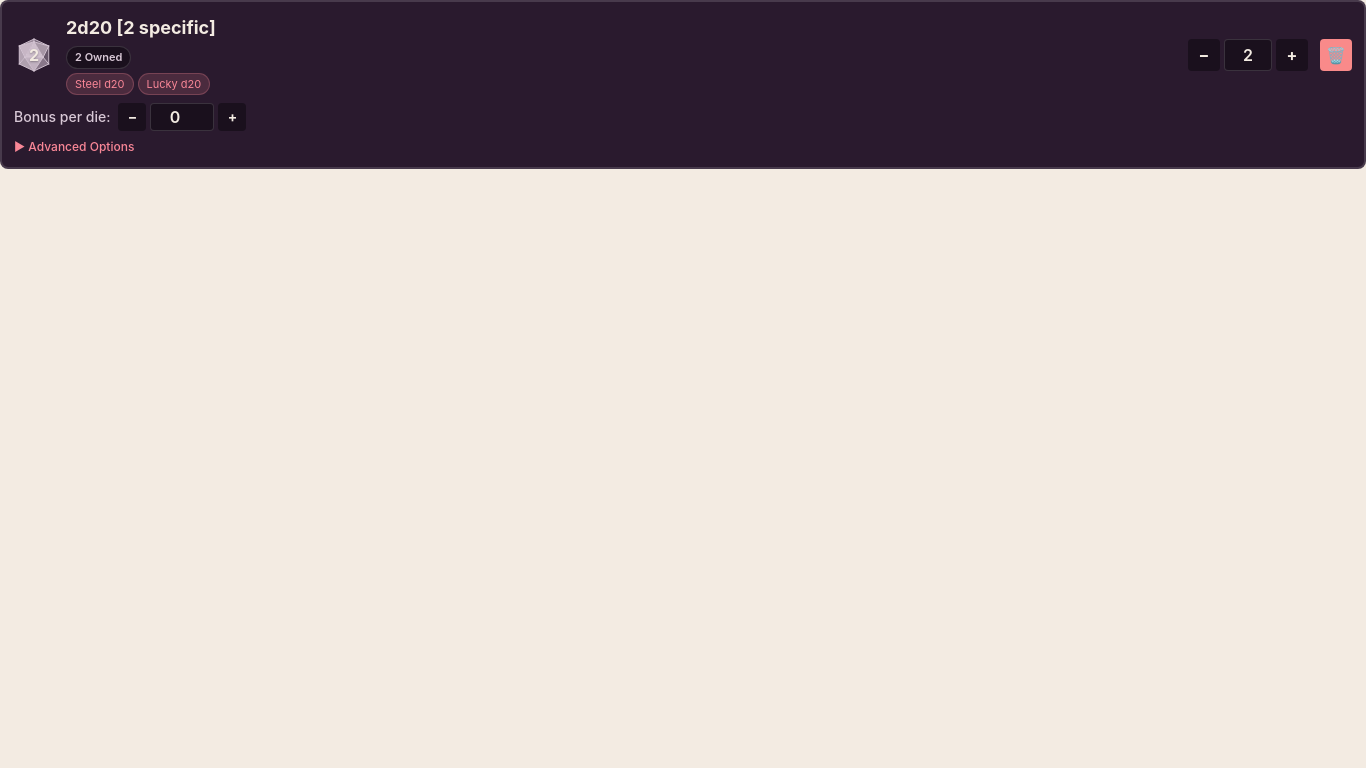
DiceEntryCard removed-dice notice › still names an owned die a shrink had to remove
The image size is (1366, 768).
Click the button "▶ Advanced Options" at [80, 146], box 14,139 -> 1352,155
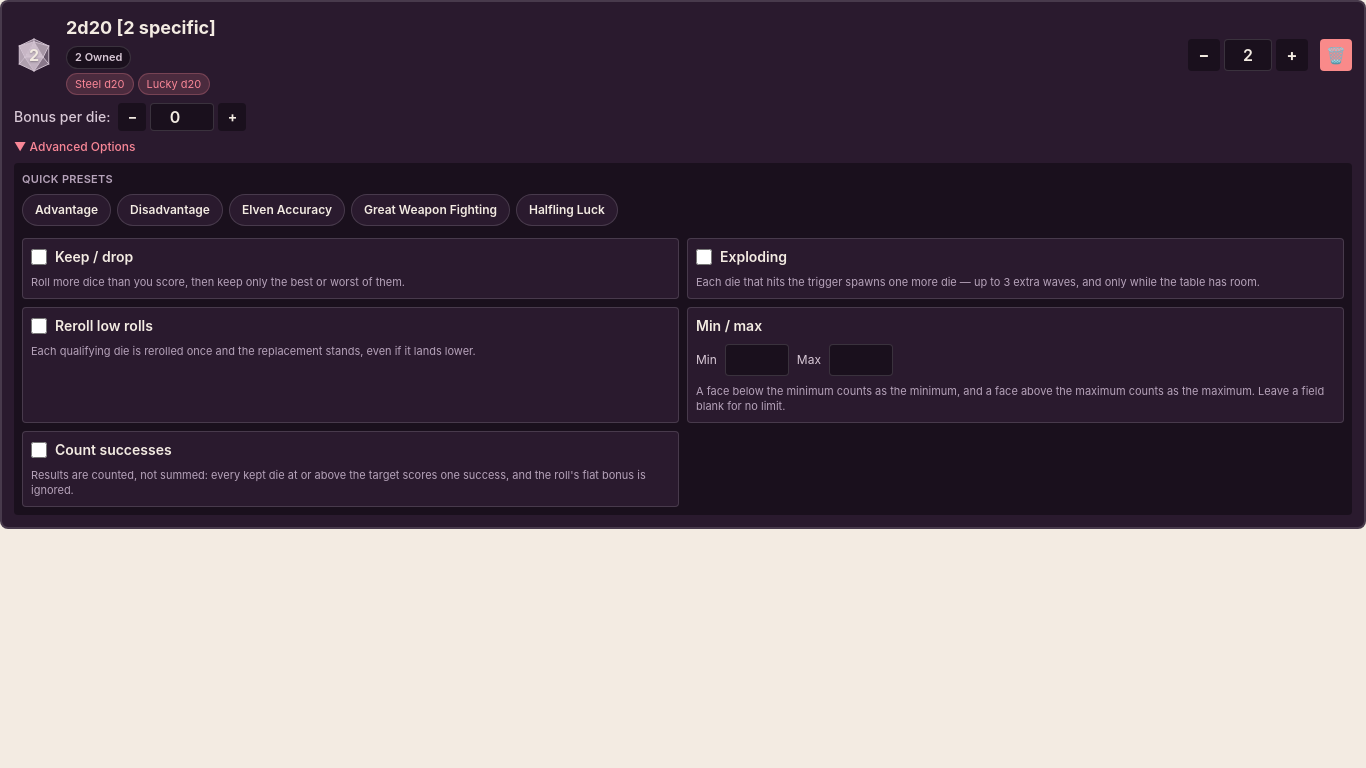
Replace the text in the field named "D20 quantity" with "1" at [1248, 54], box 1224,38 -> 1272,70
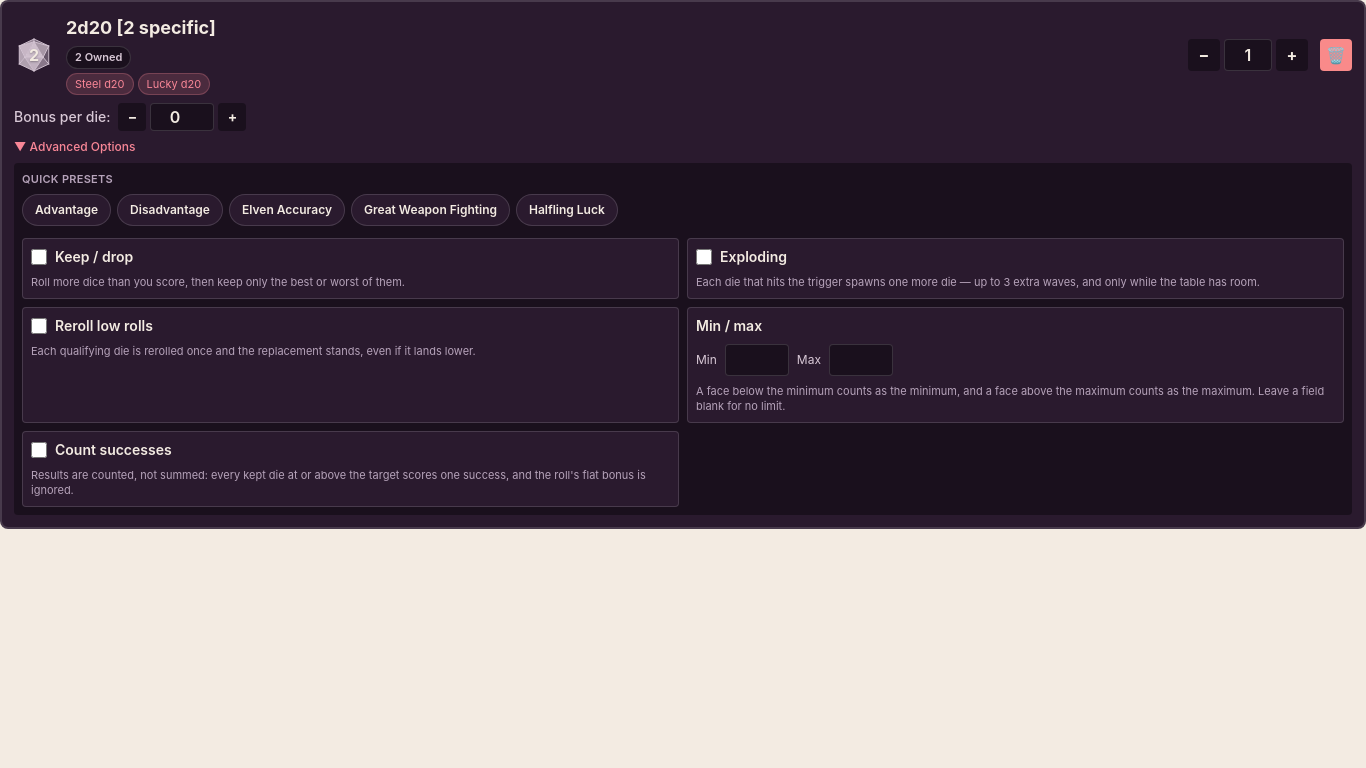
Leave the field named "D20 quantity", box 1224,38 -> 1272,70
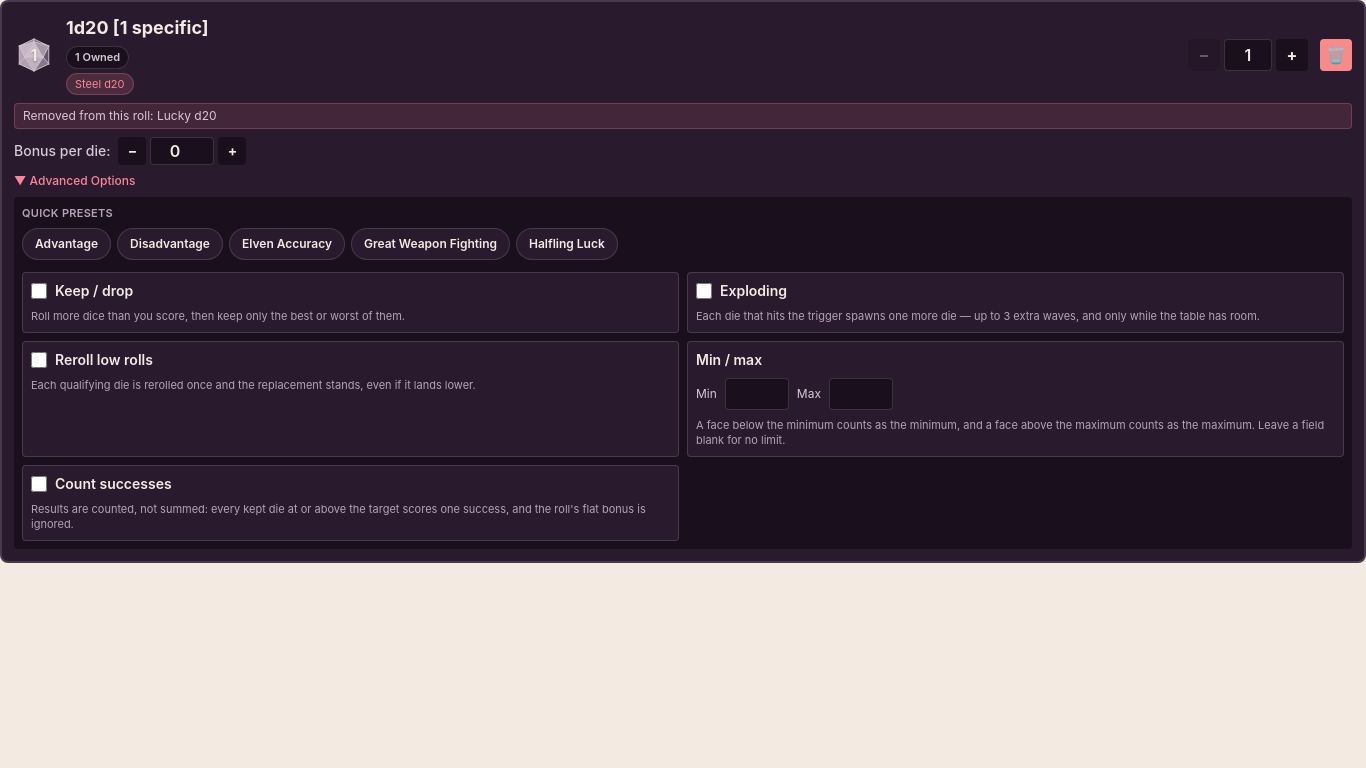
Expected: the message does not show "generic", 14,103 -> 1352,129
Expected: the message reads "Removed from this roll: Lucky d20", 14,103 -> 1352,129
